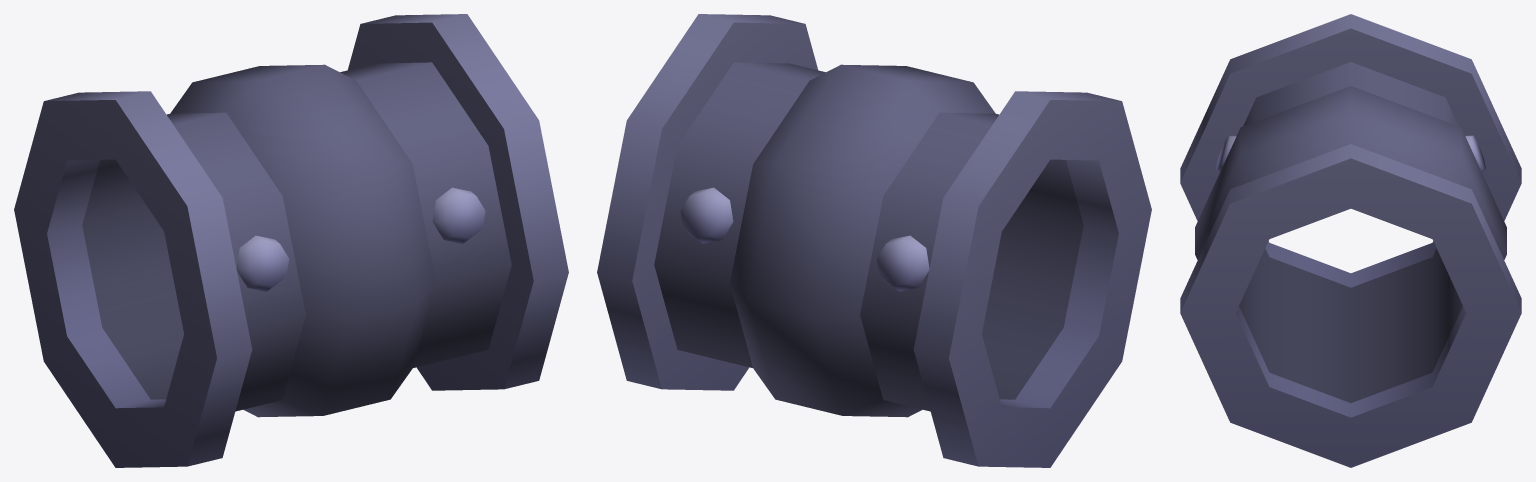
Rendered from kenney-factory-pipe-large-bump.glb.
3 renders of one model, left to right at view 1: azimuth 30°, elevation 25°; view 2: azimuth 150°, elevation 25°; view 3: azimuth 270°, elevation 25°, orthographic. The views are drawn at different scales.
Parts seen in each view (by area): view 1: pipe-large-bump; view 2: pipe-large-bump; view 3: pipe-large-bump.
Boxes of the visible parts, bbox=[...] form: pipe-large-bump: bbox=[14, 14, 568, 467]; pipe-large-bump: bbox=[597, 14, 1151, 467]; pipe-large-bump: bbox=[1180, 14, 1521, 467].
Bounding box in the file's own units: 1.5 × 1.5 × 1.5.
1 material, 1 textured.
